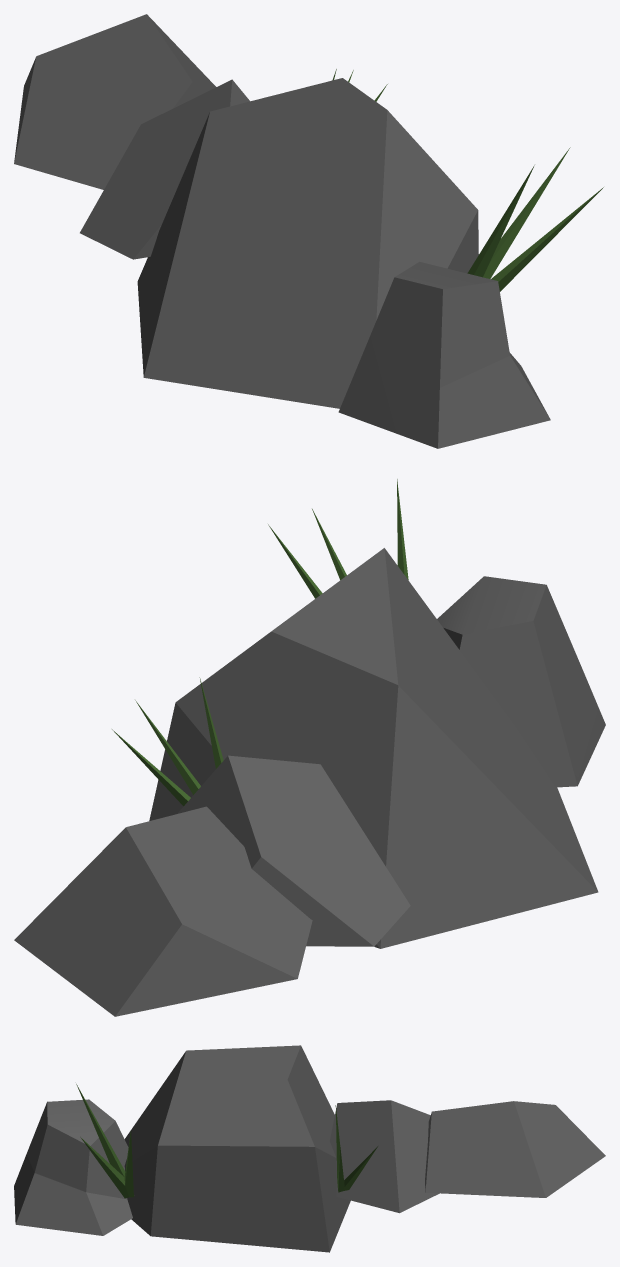
The model's file is ROCK WITH GRASS 1.fbx.
The picture shows the model from 3 angles, top to bottom: view 1: azimuth 30°, elevation 25°; view 2: azimuth 150°, elevation 25°; view 3: azimuth 270°, elevation 25°; orthographic projection. The views are drawn at different scales.
Parts seen in each view (by area): view 1: ROCK WITH GRASS 1; view 2: ROCK WITH GRASS 1; view 3: ROCK WITH GRASS 1.
Boxes of the visible parts, x1,y1,x2,y2 form: ROCK WITH GRASS 1: (14,14,603,448); ROCK WITH GRASS 1: (14,479,605,1016); ROCK WITH GRASS 1: (14,1045,605,1252).
Bounding box in the file's own units: 54.8 × 33.97 × 112.
